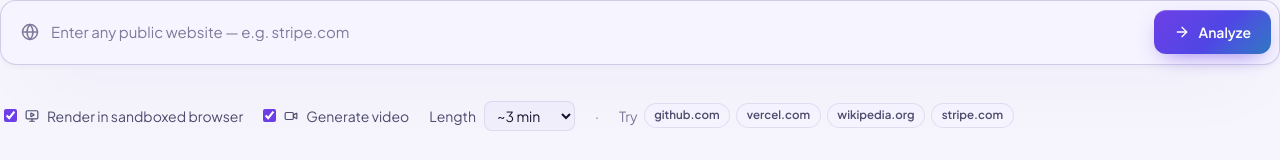
Analyze form › shows a validation error and does not submit invalid input
Type "localhost:3000" into the field with test id "url-input" at {"x": 593, "y": 32}, box top-left (51, 9), bottom-right (1134, 56)
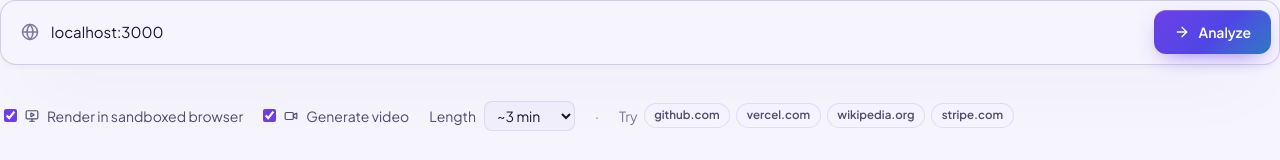
Click the button with test id "analyze-button" at {"x": 1213, "y": 32}, box top-left (1154, 10), bottom-right (1271, 54)
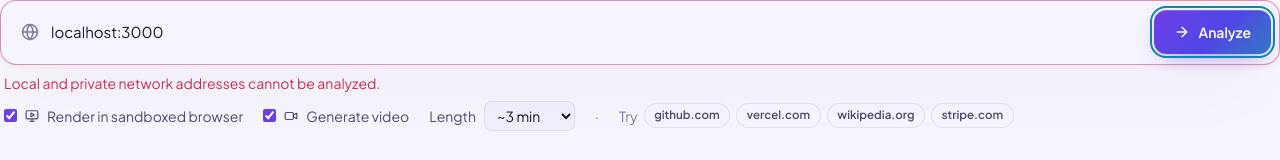
Expected: the text with test id "url-error" shows "Local and private", top-left (4, 74), bottom-right (380, 92)
